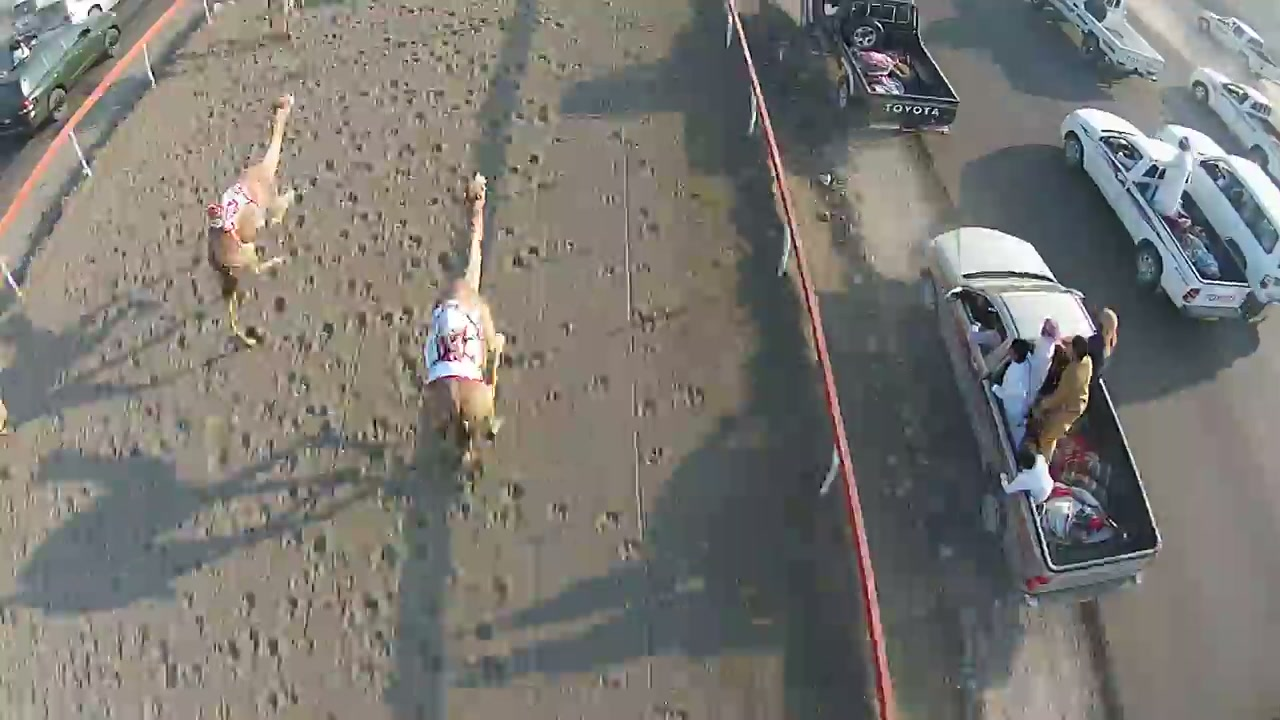animal_footprint: (222, 4, 460, 697), (479, 2, 579, 709)
